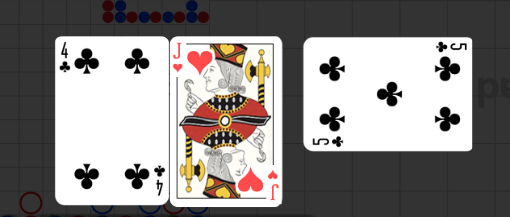4C: (152, 163, 166, 197)
5C: (433, 41, 468, 55), (311, 135, 346, 149)
